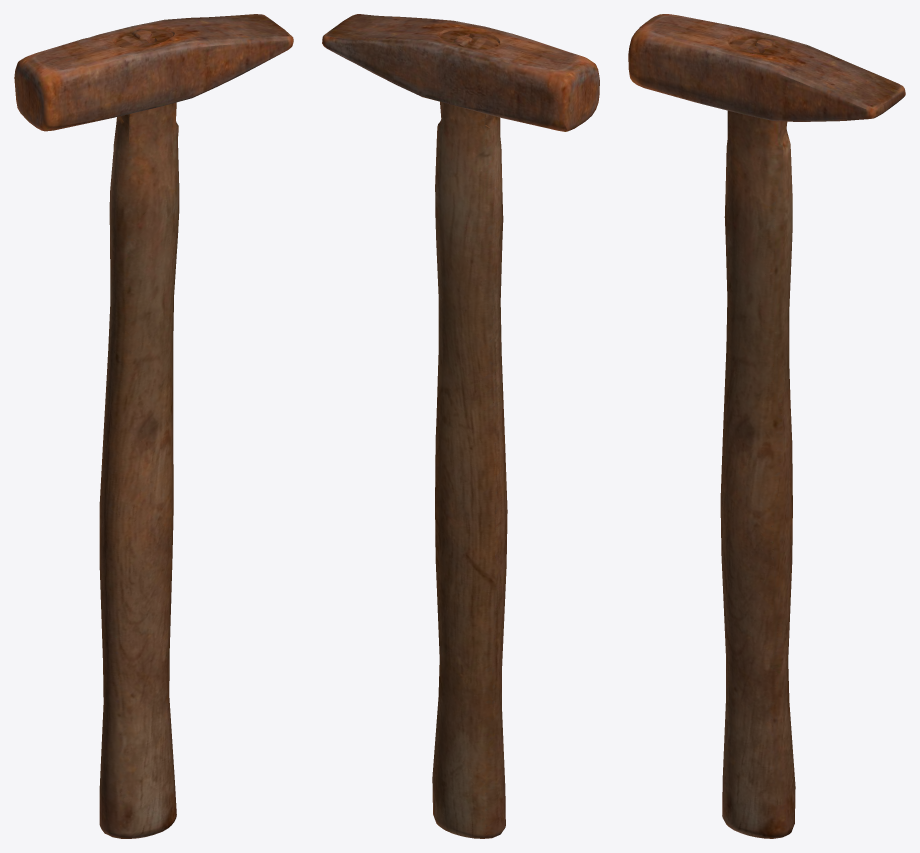
Rendered from cross_pein_hammer.glb.
3 renders of one model, left to right at view 1: azimuth 30°, elevation 25°; view 2: azimuth 150°, elevation 25°; view 3: azimuth 330°, elevation 25°, orthographic.
Parts seen in each view (by area): view 1: cross_pein_hammer; view 2: cross_pein_hammer; view 3: cross_pein_hammer.
Boxes of the visible parts, x1,y1,x2,y2 form: cross_pein_hammer: (14,14,293,838); cross_pein_hammer: (322,14,599,838); cross_pein_hammer: (628,14,905,838).
Size of what is drawn, in the model's own units: 0.0991 by 0.3002 by 0.0243.
Materials: 1 (1 with a texture image).
